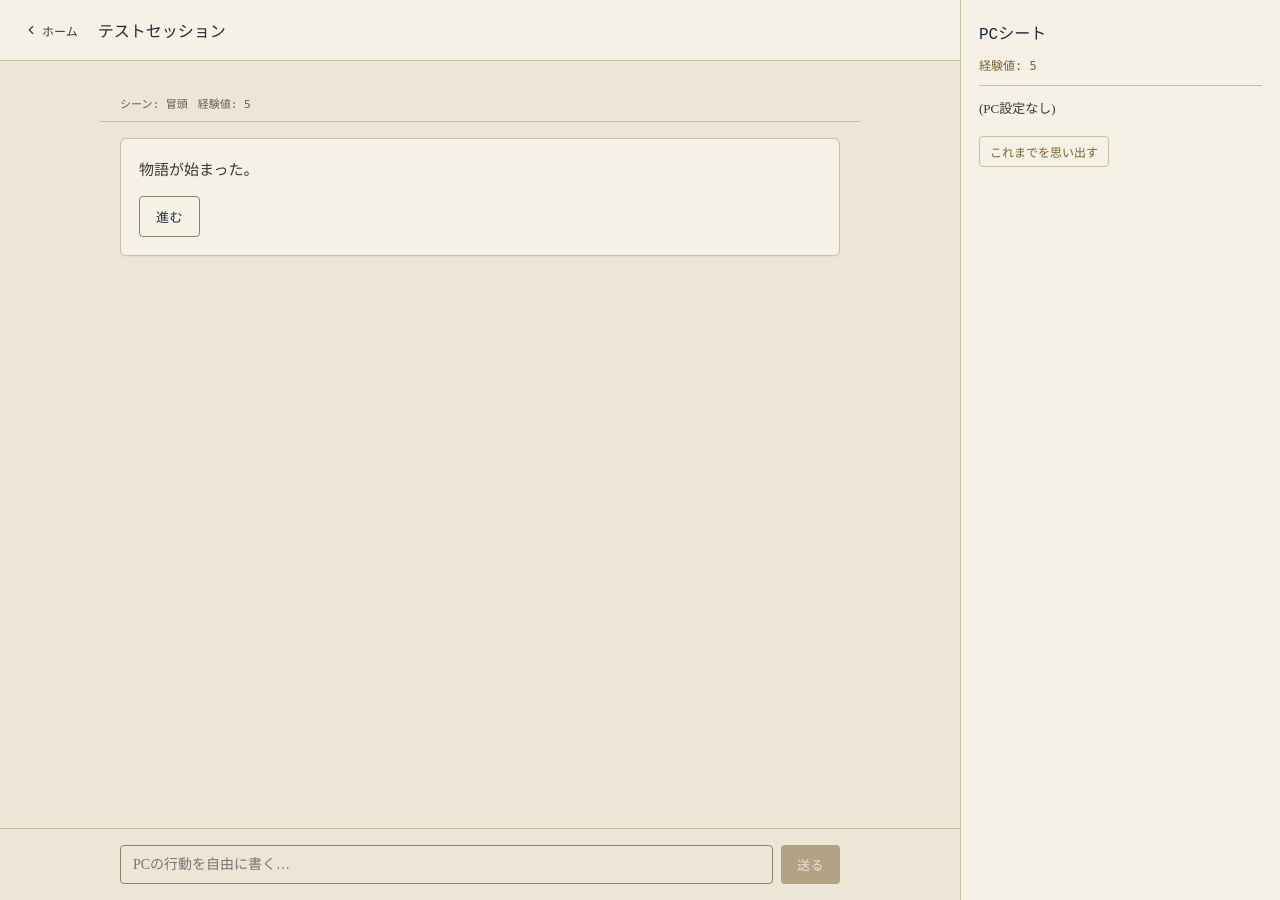
Test: Play › logs the player utterance and fetches a new GM turn when free input is submitted
Expected: the text "物語が始まった。" is shown, [139,162,258,178]
Type "森へ進む" into the field with placeholder "PCの行動を自由に書く…" at (446, 864), box [120,845,773,884]
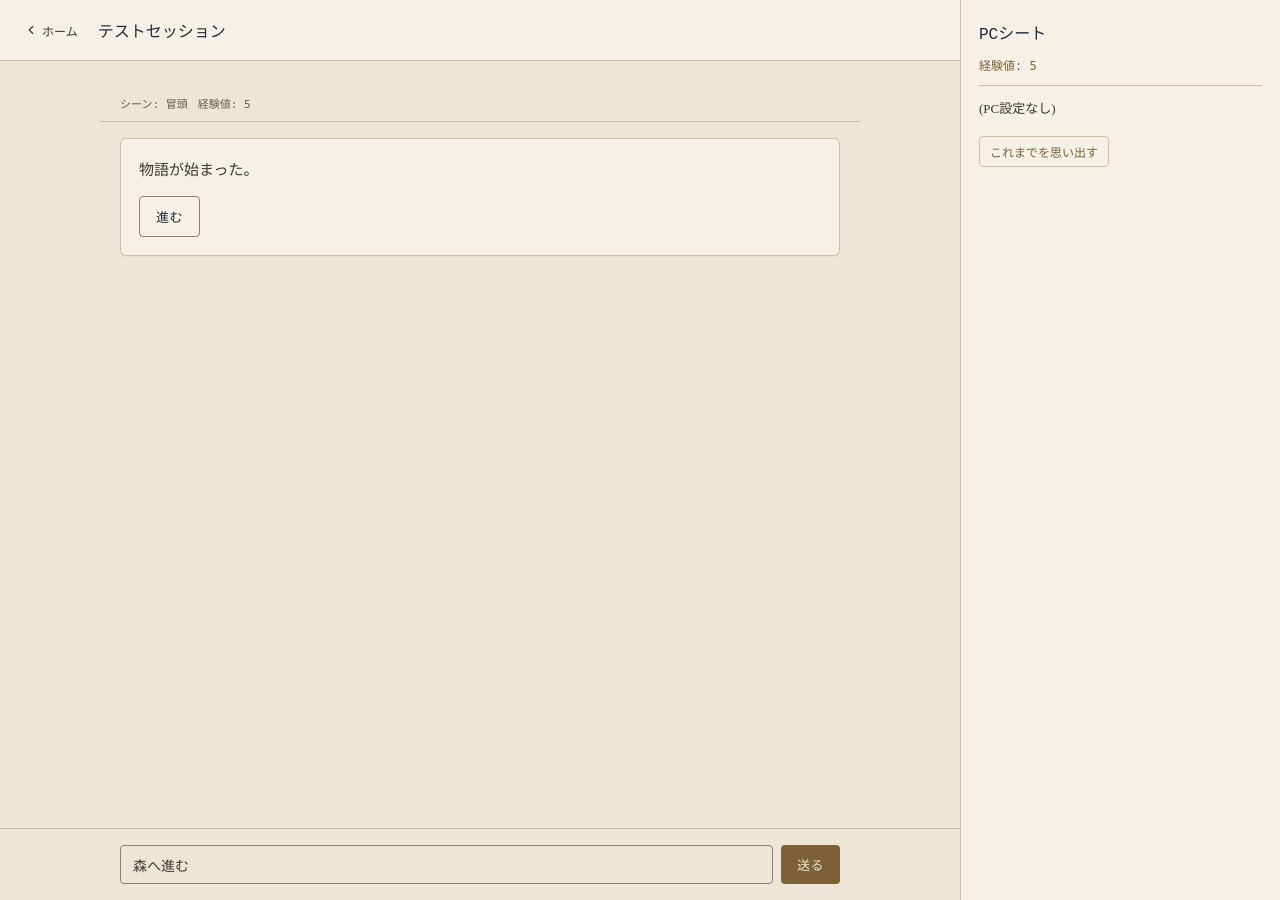
Click the button "送る" at (810, 864), box [781,845,840,884]
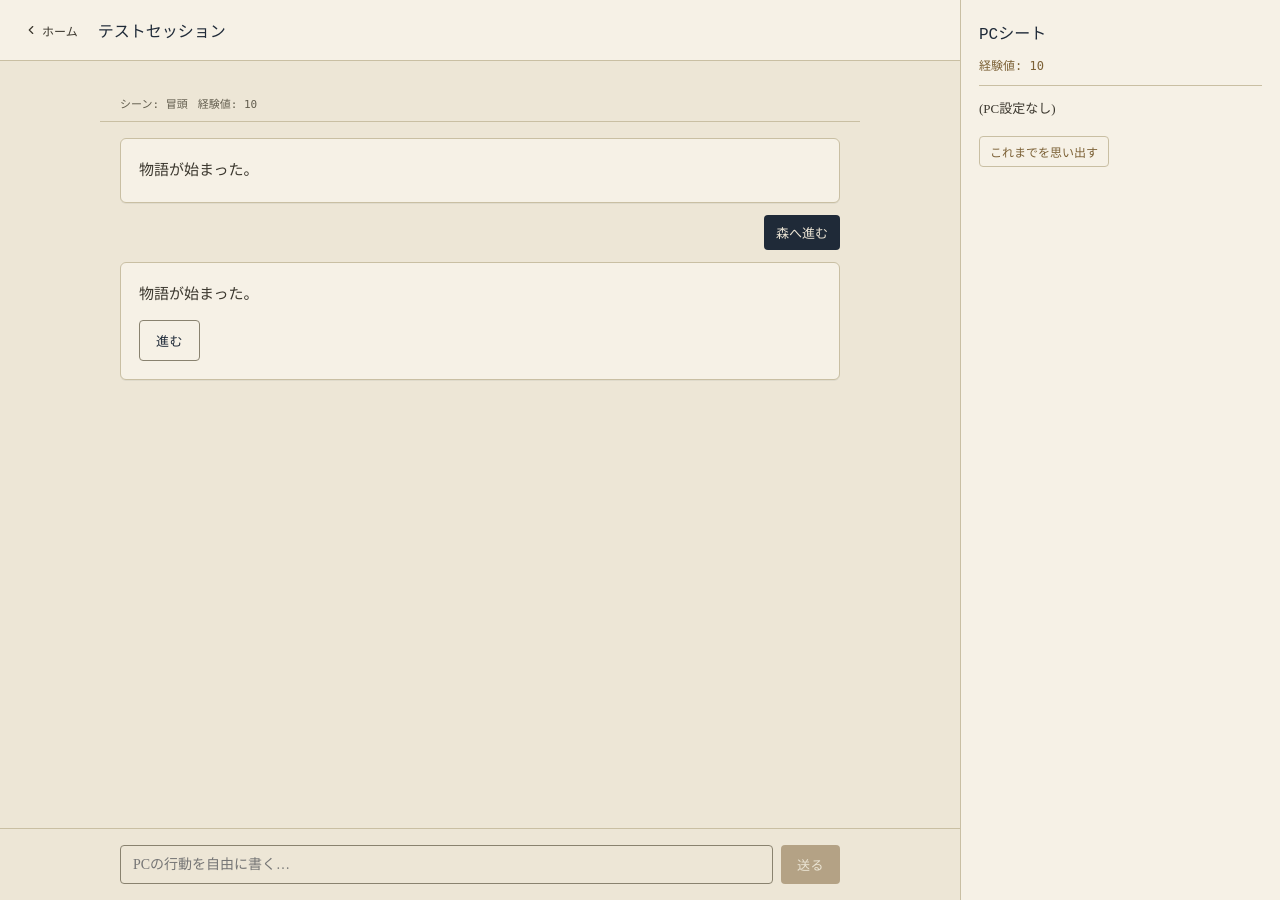
Expected: the text "森へ進む" is shown, [764,215,840,250]
Expected: the field with placeholder "PCの行動を自由に書く…" is empty, [120,845,773,884]
